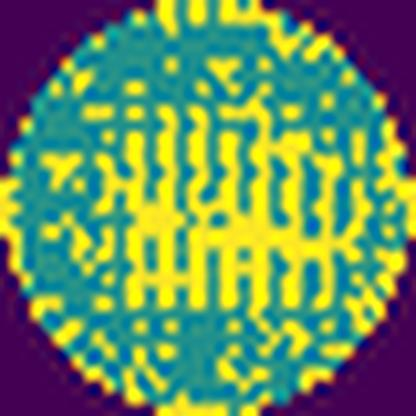Near-full: (39, 0, 414, 359)
